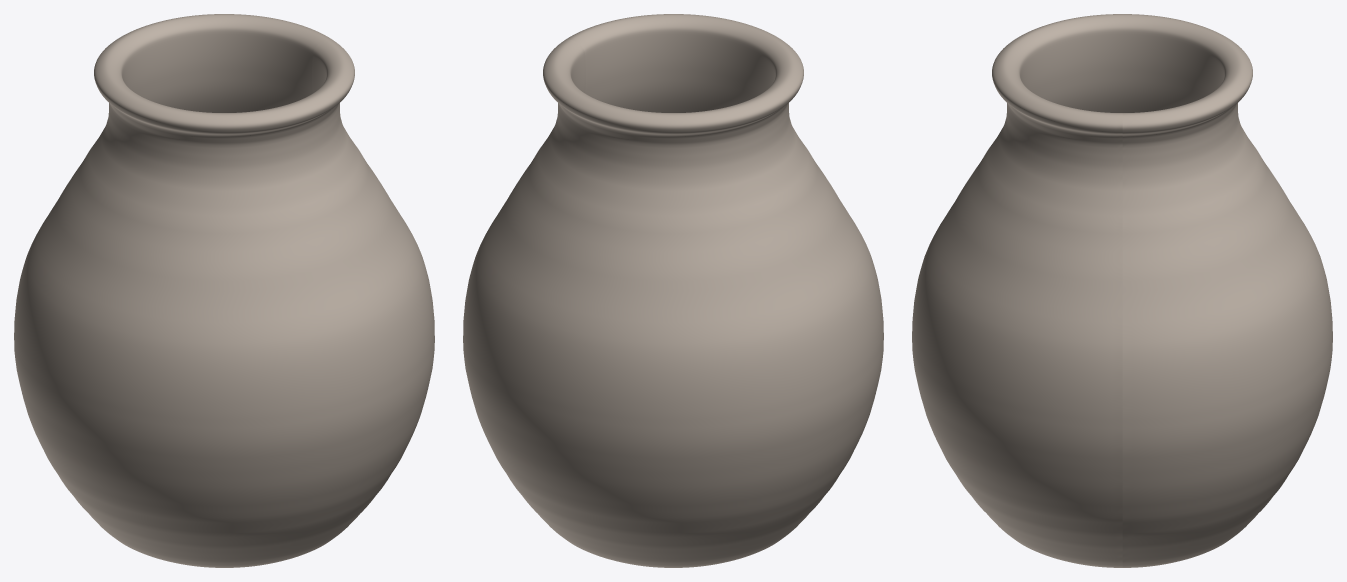
File: unfired-clay-vessel.glb
3 views of the same model, side by side, from view 1: azimuth 30°, elevation 25°; view 2: azimuth 150°, elevation 25°; view 3: azimuth 270°, elevation 25° (orthographic).
Visible parts, largest first — view 1: Wheel-thrown clay vessel; view 2: Wheel-thrown clay vessel; view 3: Wheel-thrown clay vessel.
Part boxes in pixels (x1,y1,x2,y2): Wheel-thrown clay vessel: (14, 14, 434, 567); Wheel-thrown clay vessel: (463, 14, 883, 567); Wheel-thrown clay vessel: (912, 14, 1332, 567).
Bounding box in the file's own units: 0.3683 × 0.4473 × 0.3683.
